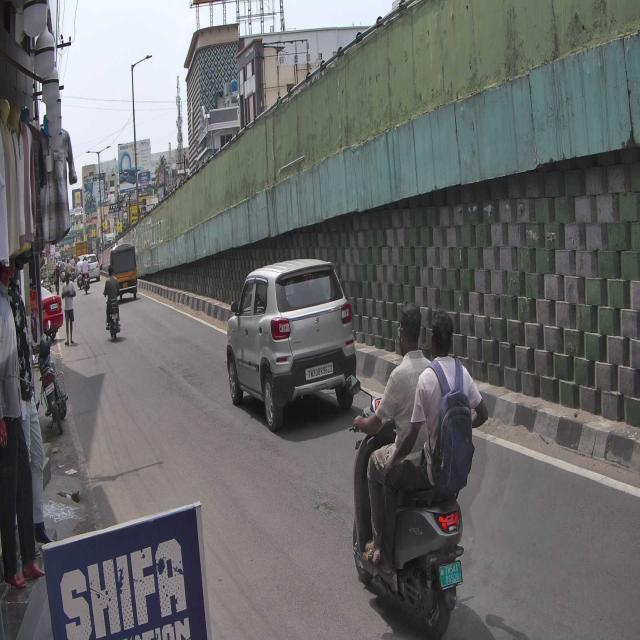double_rider: (346, 299, 490, 640)
